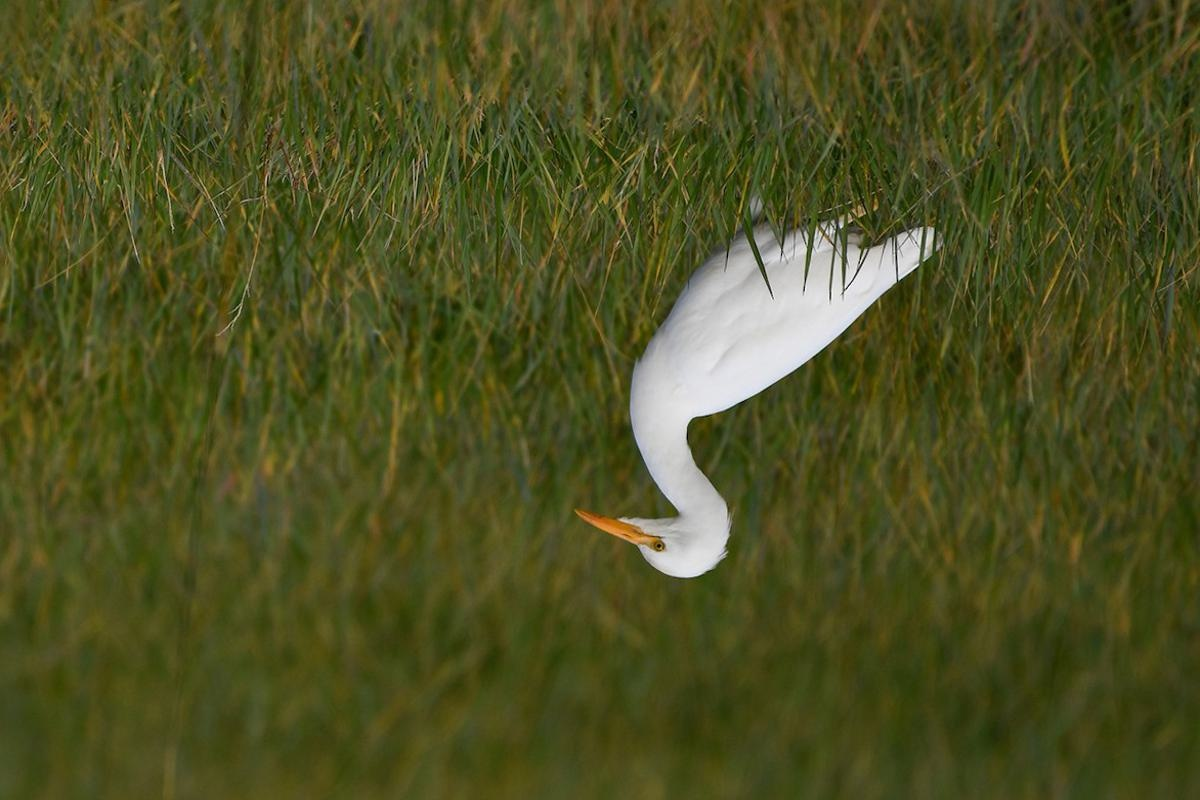egret: (574, 163, 941, 590)
